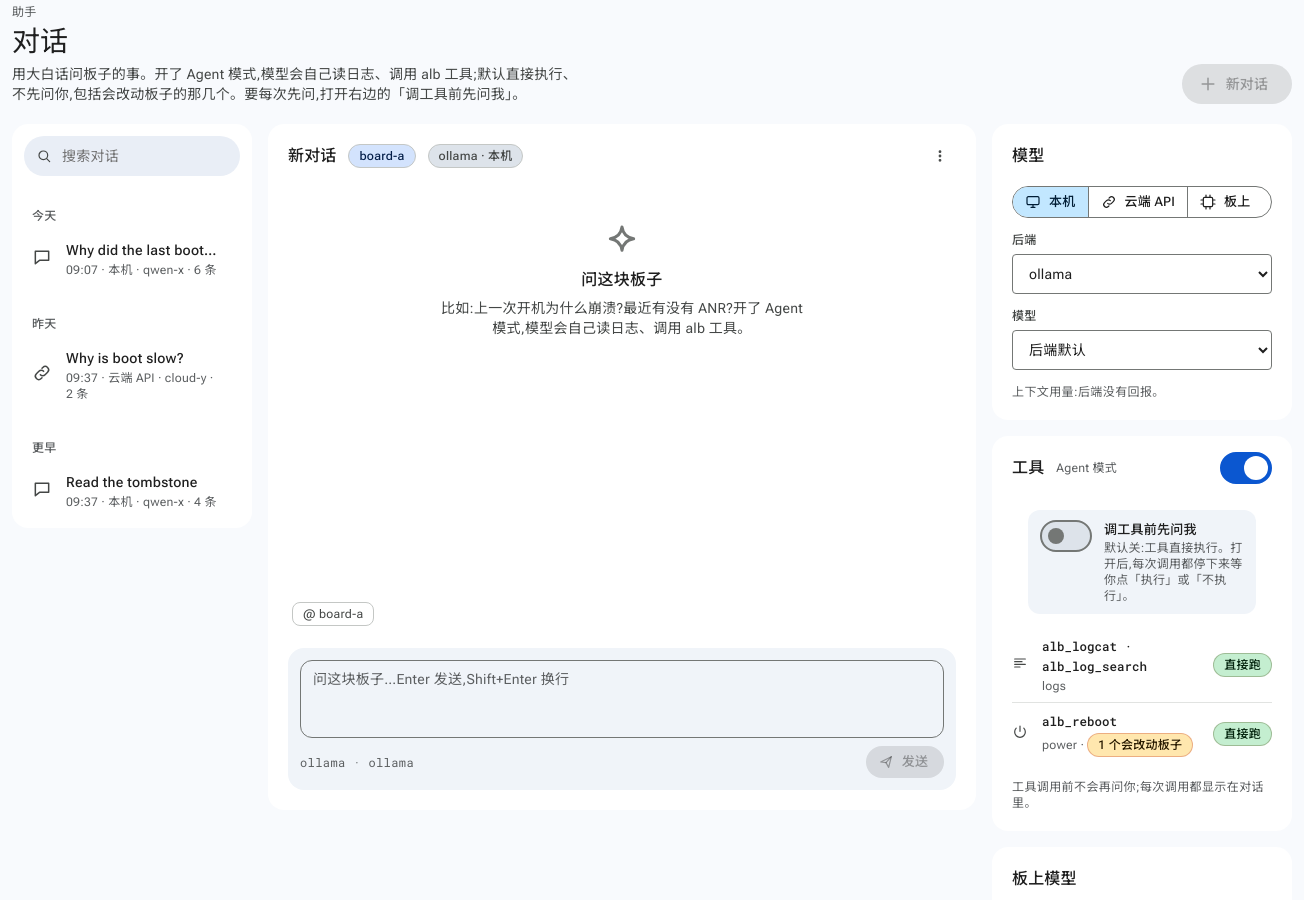
it: Chat page › opening an older session is read-only; Continue starts a new chat seeded with it
Click the button "Why is boot slow?" at (142,358), box [66, 348, 218, 368]
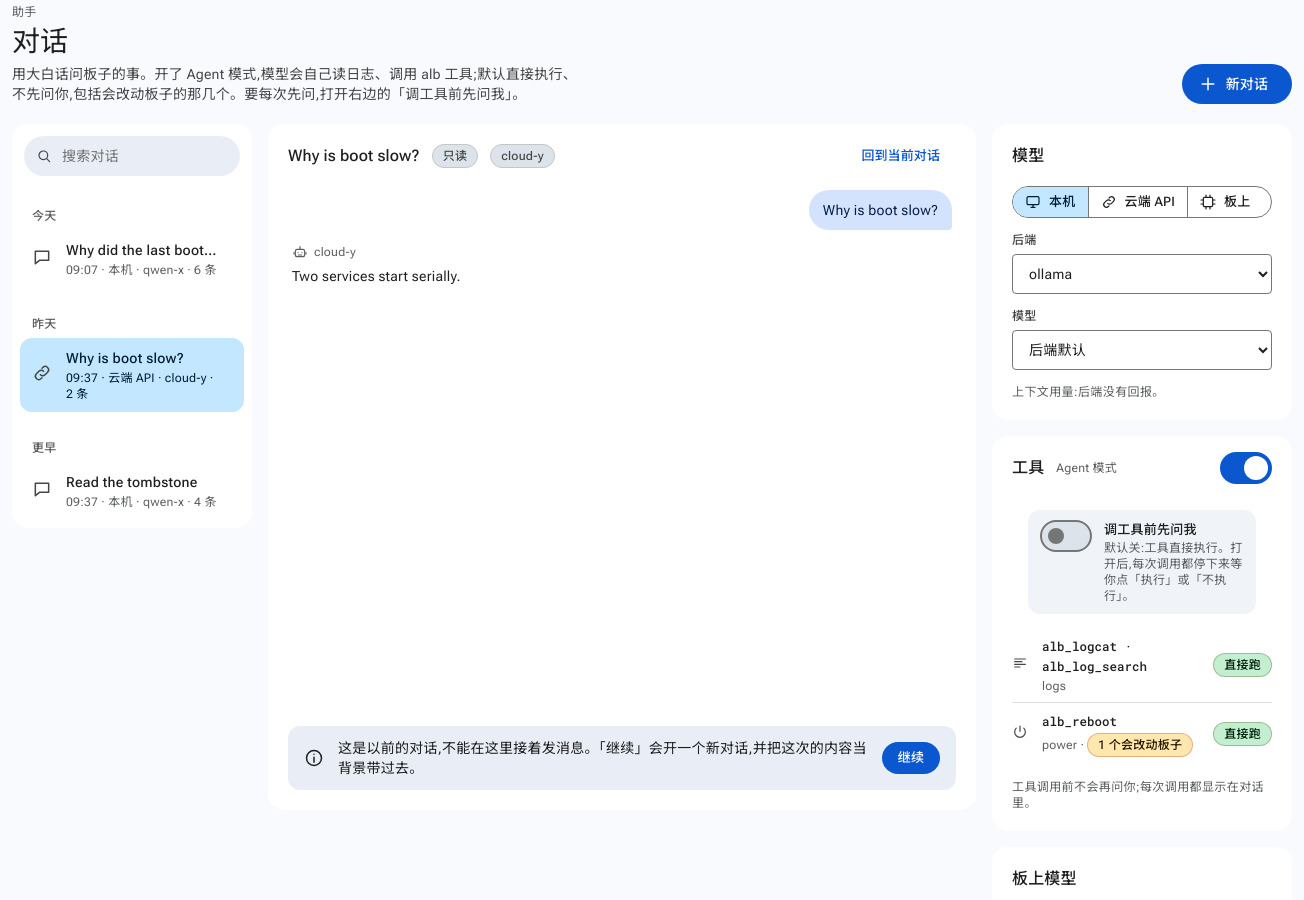
Expected: the text "Two services start serially." is shown, [292, 268, 461, 284]
Expected: the text "只读" is shown, [432, 144, 478, 168]
Click the button "继续" at (911,758), box [882, 742, 940, 774]
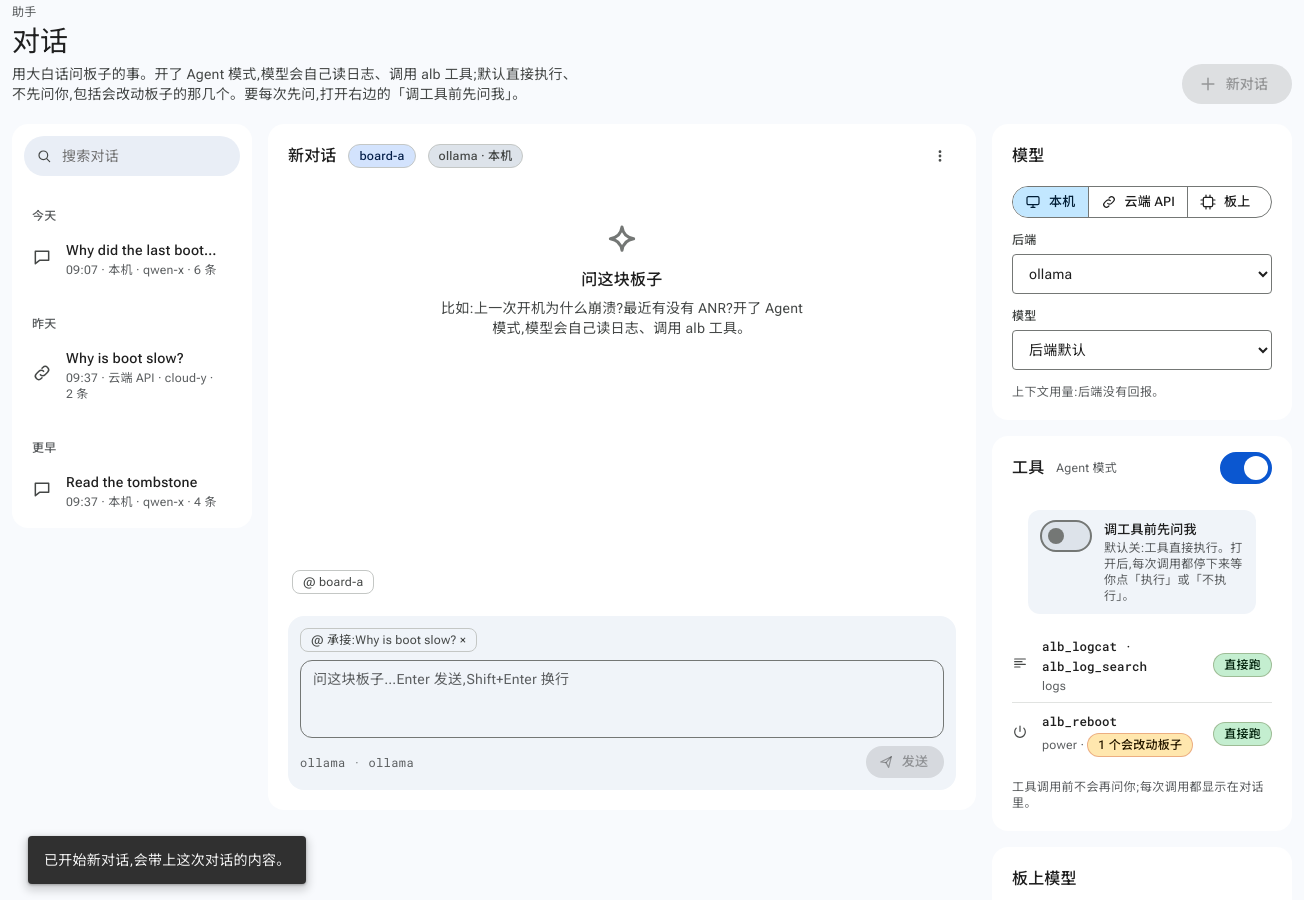
Expected: the text box named "消息" is shown, [300, 660, 944, 738]
